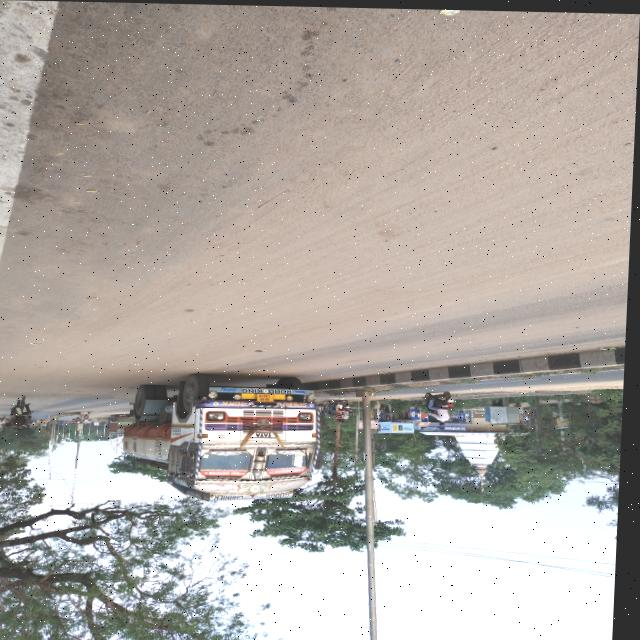plate: (260, 393, 279, 401), (452, 398, 458, 401), (350, 404, 354, 406)
